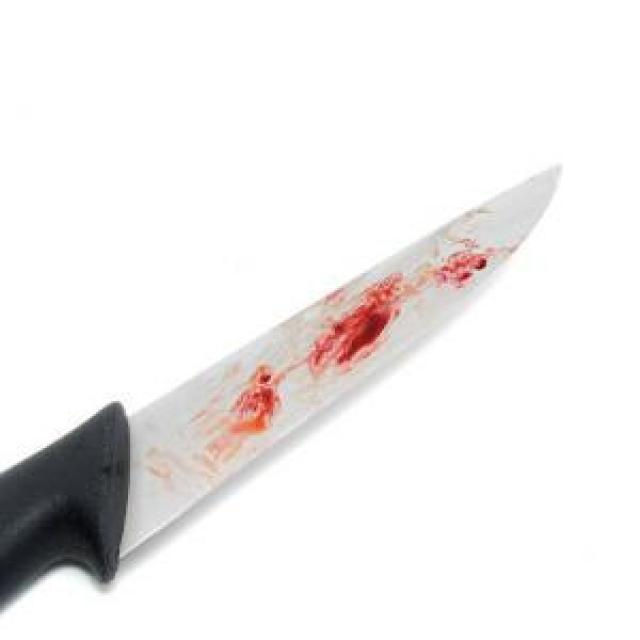knife: (0, 162, 565, 602)
